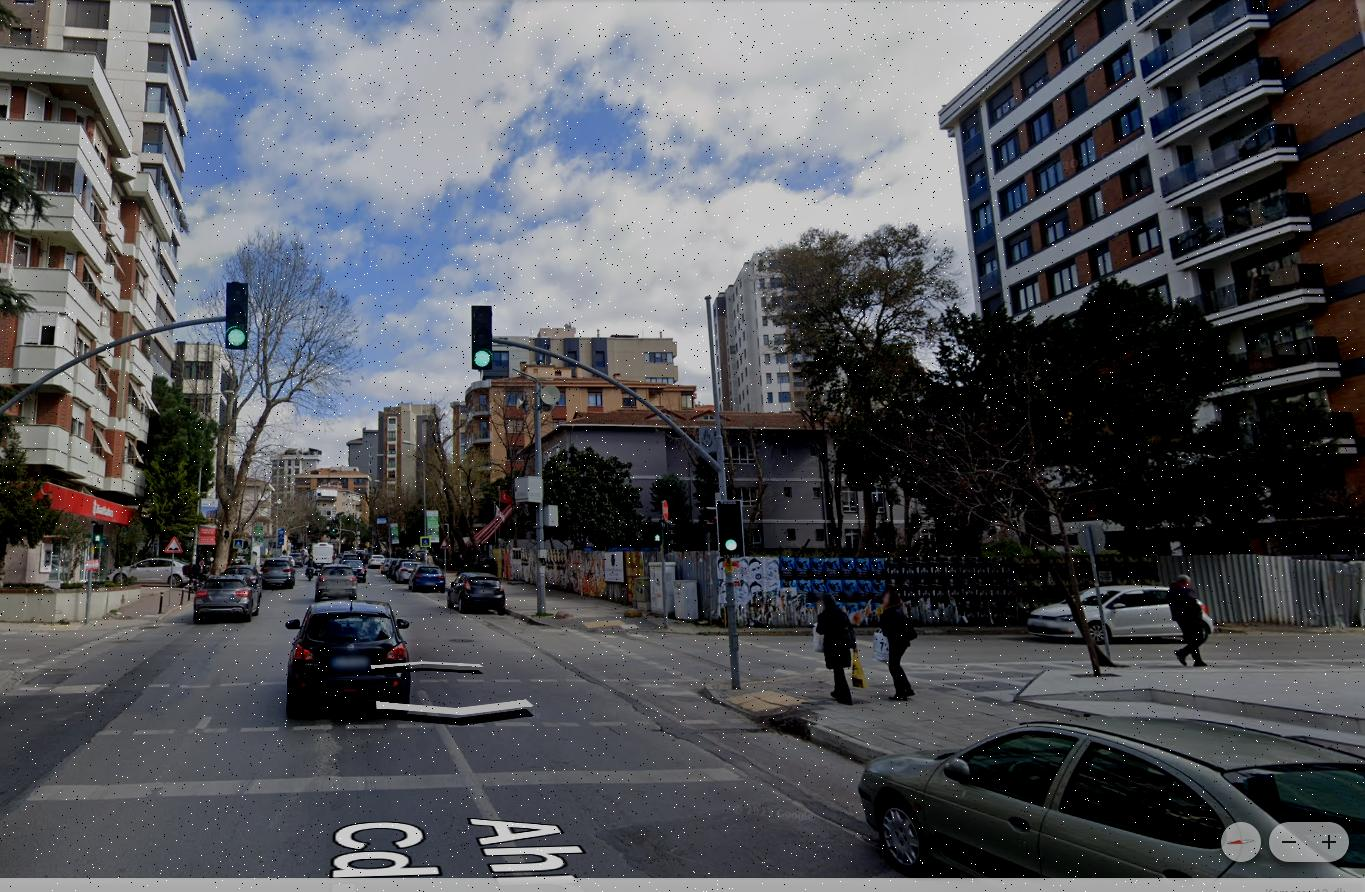greenlight: (226, 279, 248, 353), (471, 307, 495, 368), (718, 503, 742, 561)
